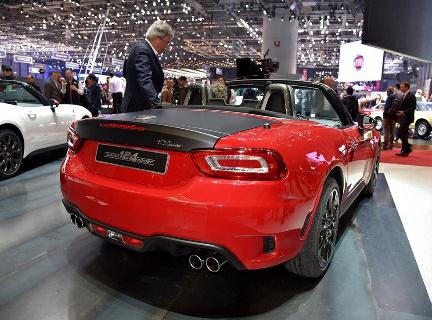???-124: (60, 87, 379, 283)
